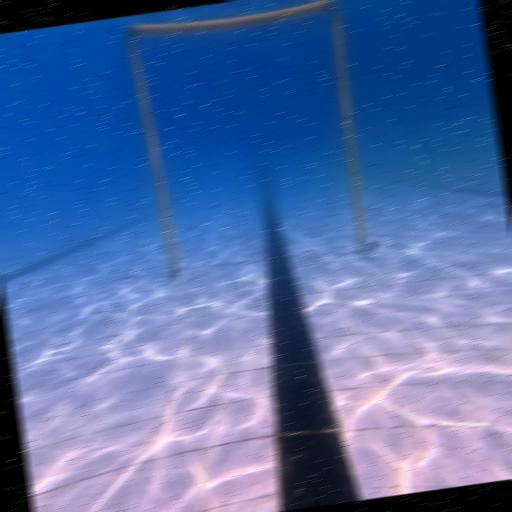gate: (124, 0, 377, 281)
